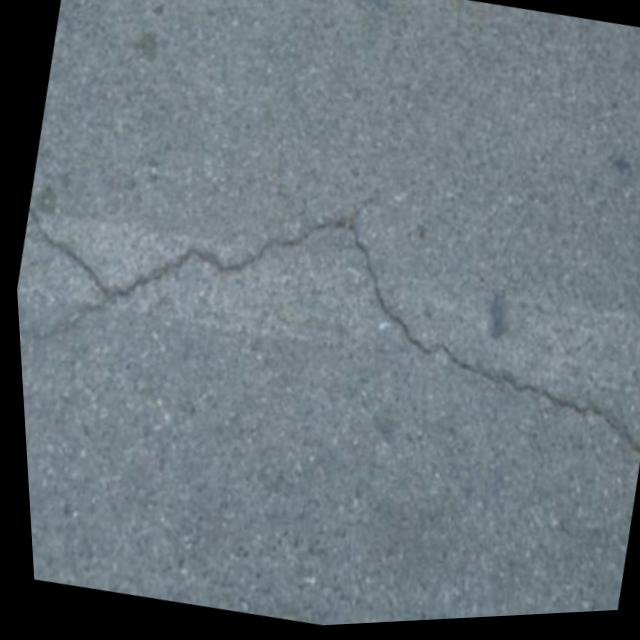Crack: (7, 126, 640, 494)
